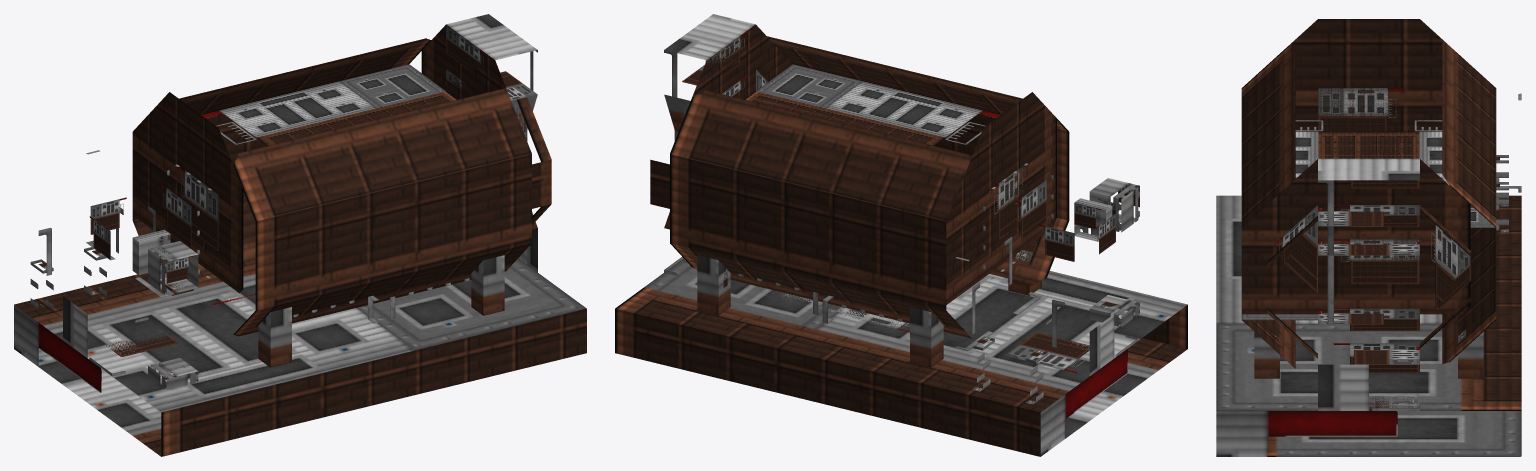
The model's file is boiler_mirrored.obj.
The picture shows the model from 3 angles, left to right: view 1: azimuth 30°, elevation 25°; view 2: azimuth 150°, elevation 25°; view 3: azimuth 270°, elevation 25°; orthographic projection. The views are drawn at different scales.
Parts seen in each view (by area): view 1: base; view 2: base; view 3: base.
Part boxes in pixels (x1,y1,x2,y2): base: [14, 14, 586, 456]; base: [615, 14, 1187, 456]; base: [1216, 19, 1521, 456].
Size of the model in its own units: 5 by 3 by 3.
